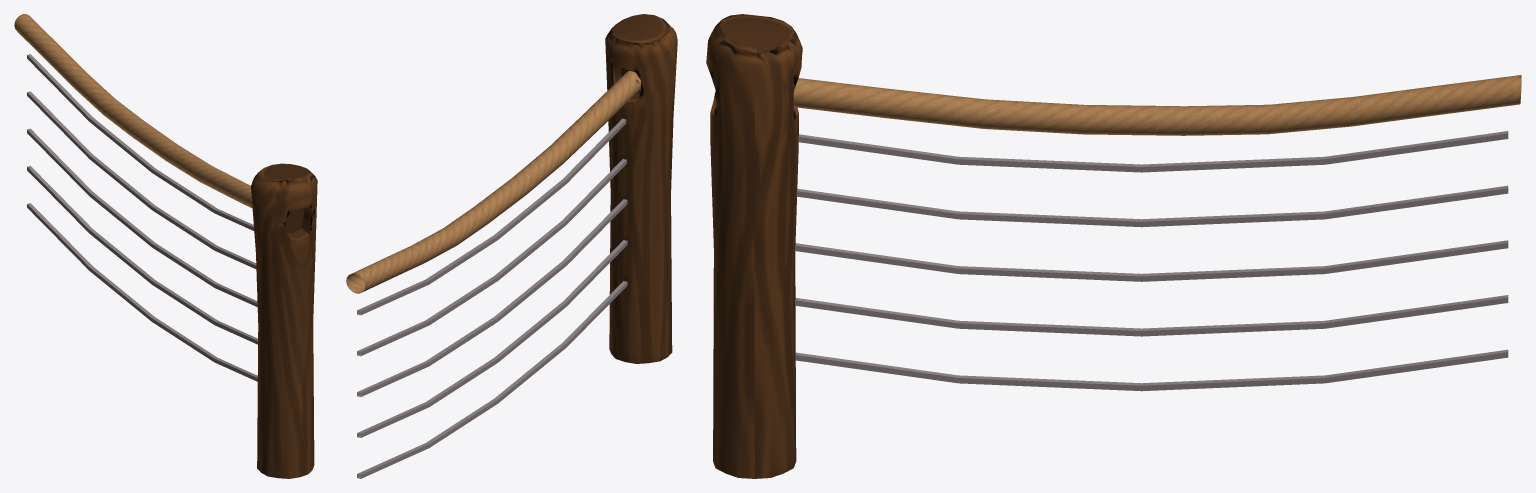
The model's file is LargeFence_low.fbx.
3 views of the same model, side by side, from view 1: azimuth 30°, elevation 25°; view 2: azimuth 150°, elevation 25°; view 3: azimuth 270°, elevation 25° (orthographic). The views are drawn at different scales.
Parts seen in each view (by area): view 1: LargeFence_low; view 2: LargeFence_low; view 3: LargeFence_low.
Boxes of the visible parts, x1,y1,x2,y2 form: LargeFence_low: (14, 14, 317, 478); LargeFence_low: (346, 14, 677, 478); LargeFence_low: (706, 14, 1521, 478).
Bounding box in the file's own units: 0.3153 × 1.53 × 2.59.
